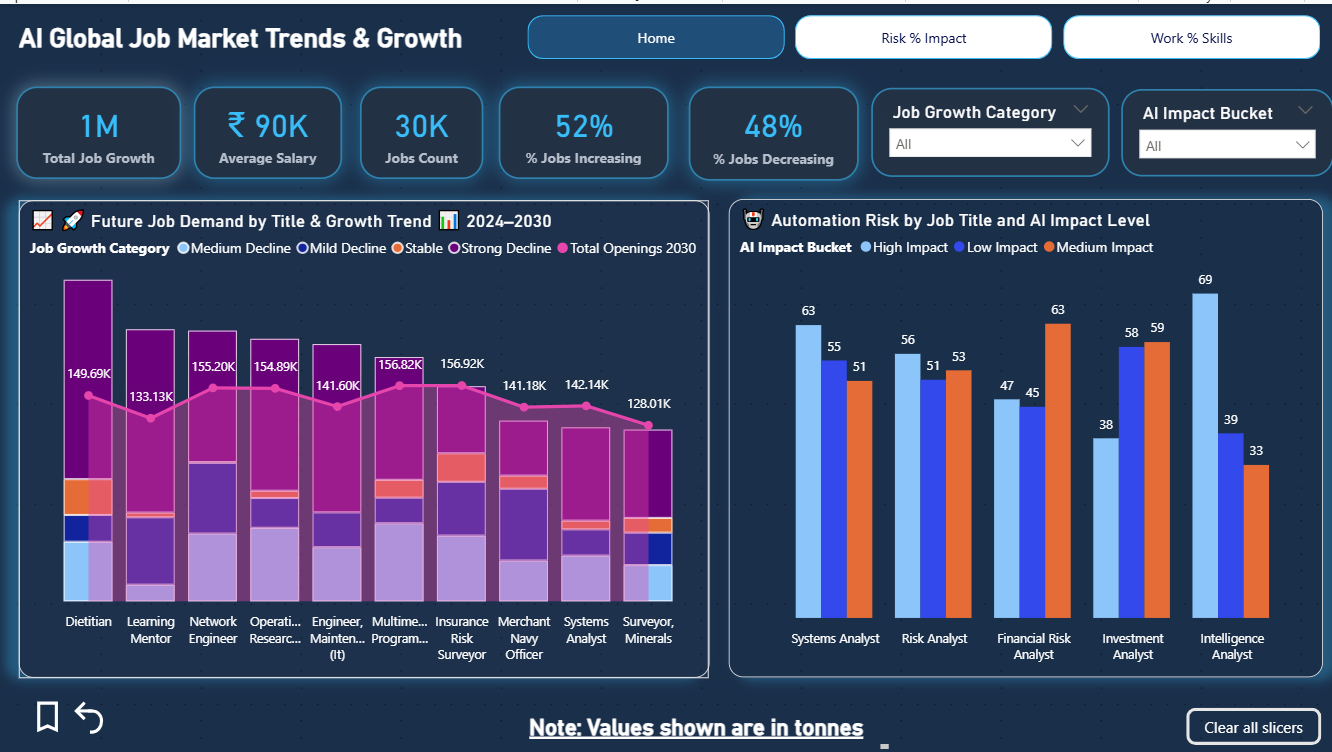

Layout of this report page (visuals, bound fields, positions):
{"tool":"powerbi","page":{"name":"Home","canvas":[1280,720],"ordinal":1},"visuals":[{"type":"pageNavigator","box":[506.8,10.4,761.7,43],"z":0},{"type":"textbox","title":"AI Global Job Market Trends & Growth","box":[12.8,17.9,451.9,28.1],"z":1000},{"type":"card","fields":{"Values":["AI Jobs Measures.Total Job Growth"]},"box":[15.2,79.5,158.6,88.9],"z":2000},{"type":"card","fields":{"Values":["AI Jobs Measures.Average Salary"]},"box":[185.7,79.5,142.3,88.9],"z":3000},{"type":"lineStackedColumnComboChart","title":"📈 🚀 Future Job Demand by Title & Growth Trend 📊 2024–2030","fields":{"Category":["AI_Job_Trends.Job Title"],"Series":["AI_Job_Trends.Job Growth Category"],"Y":["AI Jobs Measures.Total Openings 2024"],"Y2":["AI Jobs Measures.Total Openings 2030"]},"box":[17.9,188.1,663.1,458.3],"z":4000},{"type":"clusteredColumnChart","title":"🤖 Automation Risk by Job Title and AI Impact Level","fields":{"Category":["AI_Job_Trend_Summary.Job Title"],"Y":["AI Jobs Measures.Avg Automation Risk"],"Series":["AI_Job_Trends.AI Impact Bucket"]},"box":[700,186.9,570.2,459.5],"z":5000},{"type":"slicer","title":"Industry","fields":{"Values":["AI_Job_Trends.Job Growth Category"]},"box":[836.2,80,228.6,85.7],"z":6000},{"type":"slicer","title":"Country","fields":{"Values":["AI_Job_Trends.AI Impact Bucket"]},"box":[1076,81.7,204.2,84.2],"z":7000},{"type":"card","fields":{"Values":["AI Jobs Measures.Jobs Count"]},"box":[345.7,79.5,118.5,88.9],"z":8000},{"type":"card","fields":{"Values":["AI Jobs Measures.% Jobs Decreasing"]},"box":[661.3,79.5,163,90.4],"z":9000},{"type":"card","fields":{"Values":["AI Jobs Measures.% Jobs Increasing"]},"box":[479.1,79.5,163,88.9],"z":10000},{"type":"actionButton","box":[26.2,657.6,38.7,53.7],"z":11000},{"type":"actionButton","box":[64.9,661.3,41.2,47.4],"z":13000},{"type":"actionButton","box":[1139.3,675,129.8,35.7],"z":14000},{"type":"textbox","title":"Note: Values shown are in tonnes","box":[479.2,681.3,379.3,38.7],"z":15000}]}

Visuals, with their boxes in screenshot pixels (x1, y1, x2, y2), scaled from the page's 1280x720 canvas onto the 1332x752 screenshot:
pageNavigator: BBox(527, 11, 1320, 56)
"AI Global Job Market Trends & Growth" textbox: BBox(13, 19, 484, 48)
card - AI Jobs Measures.Total Job Growth: BBox(16, 83, 181, 176)
card - AI Jobs Measures.Average Salary: BBox(193, 83, 341, 176)
"📈 🚀 Future Job Demand by Title & Growth Trend 📊 2024–2030" lineStackedColumnComboChart: BBox(19, 196, 709, 675)
"🤖 Automation Risk by Job Title and AI Impact Level" clusteredColumnChart: BBox(728, 195, 1322, 675)
"Industry" slicer: BBox(870, 84, 1108, 173)
"Country" slicer: BBox(1120, 85, 1331, 173)
card - AI Jobs Measures.Jobs Count: BBox(360, 83, 483, 176)
card - AI Jobs Measures.% Jobs Decreasing: BBox(688, 83, 858, 177)
card - AI Jobs Measures.% Jobs Increasing: BBox(499, 83, 668, 176)
actionButton: BBox(27, 687, 68, 743)
actionButton: BBox(68, 691, 110, 740)
actionButton: BBox(1186, 705, 1321, 742)
"Note: Values shown are in tonnes" textbox: BBox(499, 712, 893, 751)
